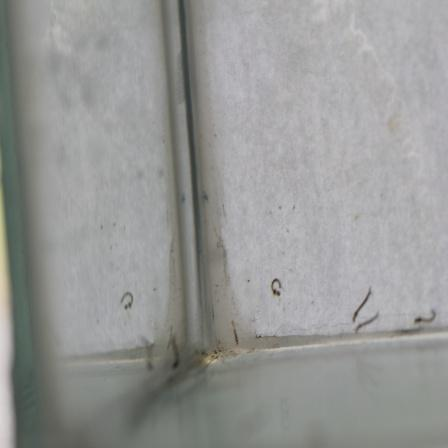Jentik-Nyamuk: (266, 274, 287, 299)
